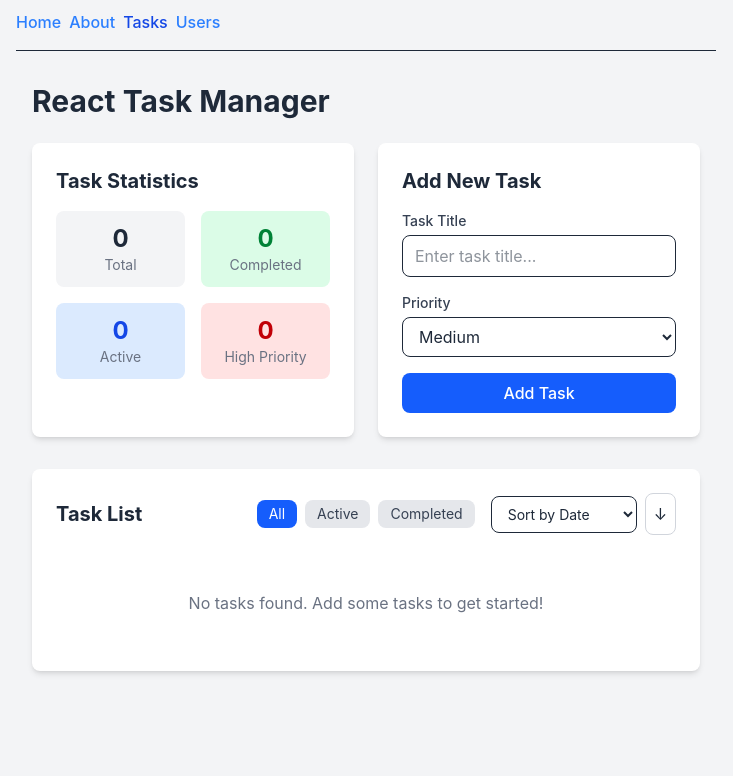
Test: TaskPage › フィルタリング機能 › Allフィルターですべてのタスクを表示
Type "タスク1" into the field labelled "Task Title". click: (539, 256)
box: [402, 235, 676, 277]
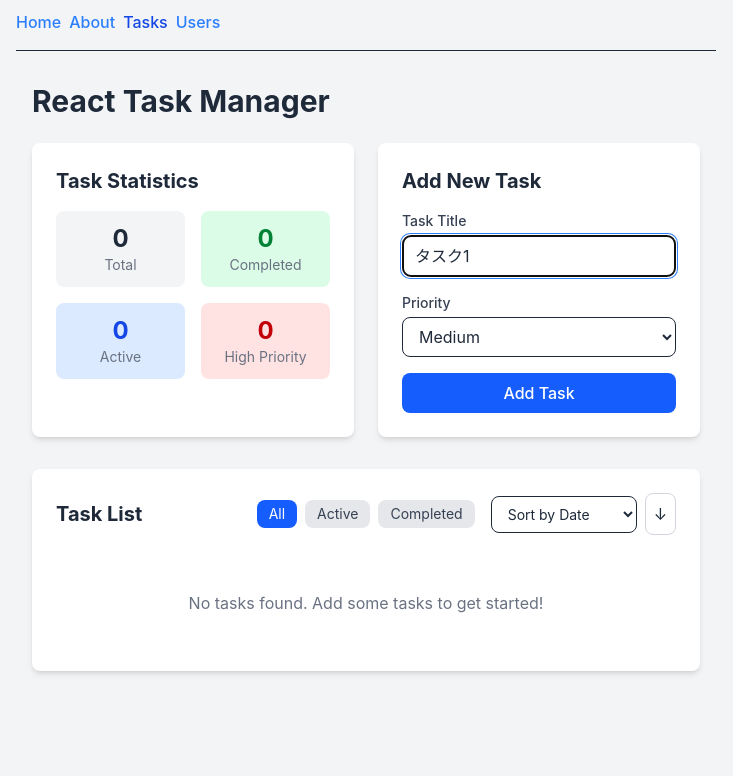
Click the button "Add Task". click: (539, 393)
box: [402, 373, 676, 413]
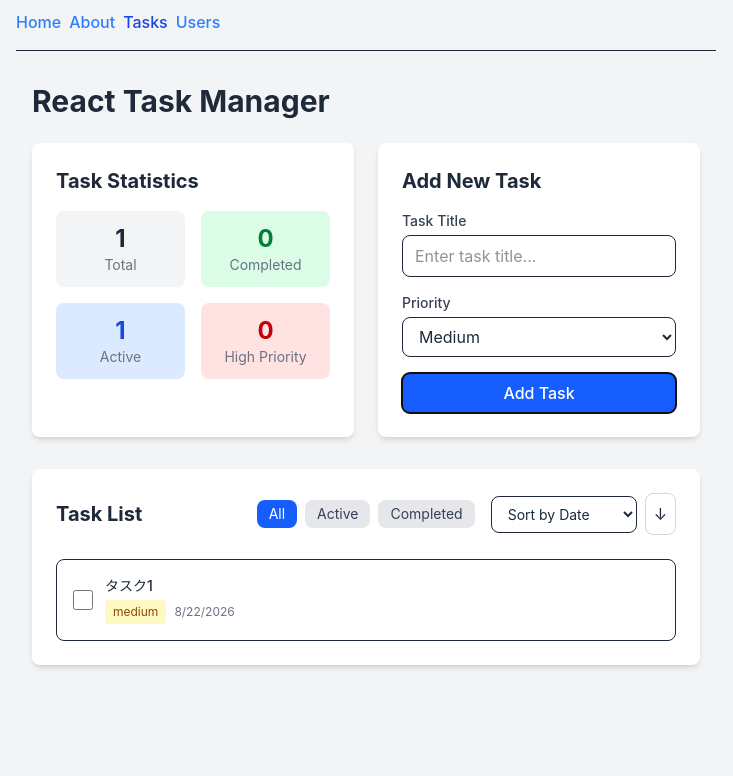
Type "タスク2" into the field labelled "Task Title". click: (539, 256)
box: [402, 235, 676, 277]
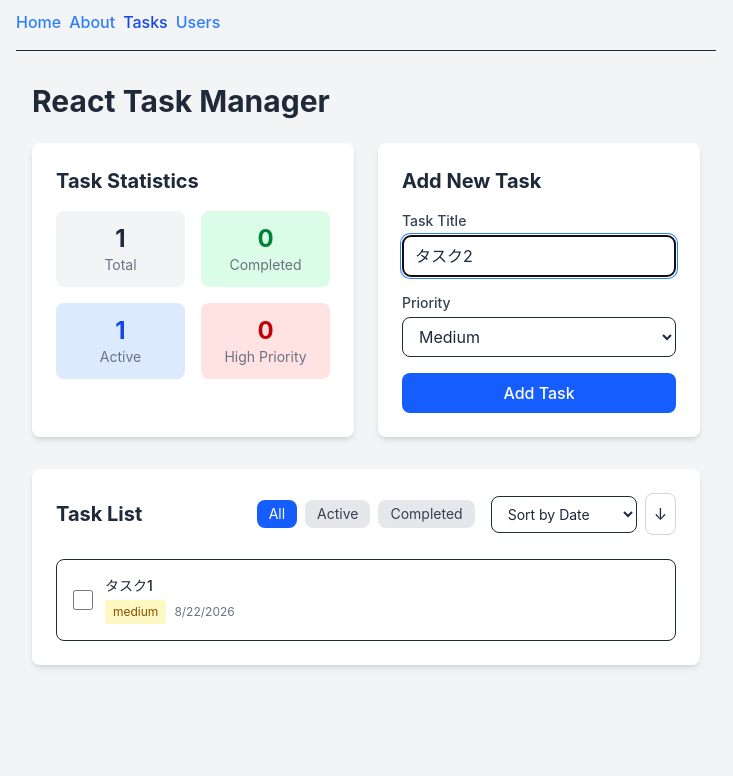
Click the button "Add Task". click: (539, 393)
box: [402, 373, 676, 413]
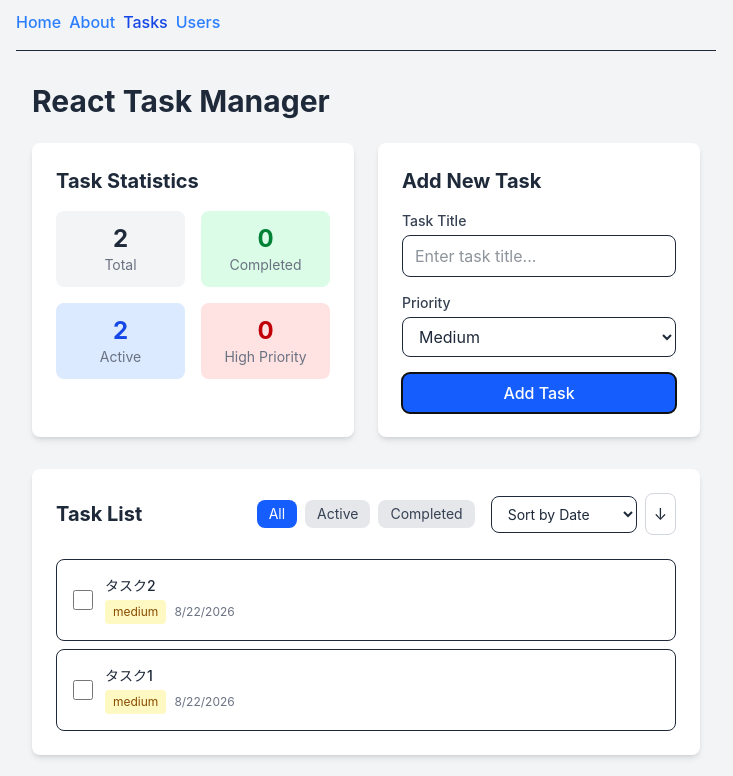
Result: the text "タスク1" is shown at [105, 667, 153, 684]
Result: the text "タスク2" is shown at [105, 577, 156, 594]
